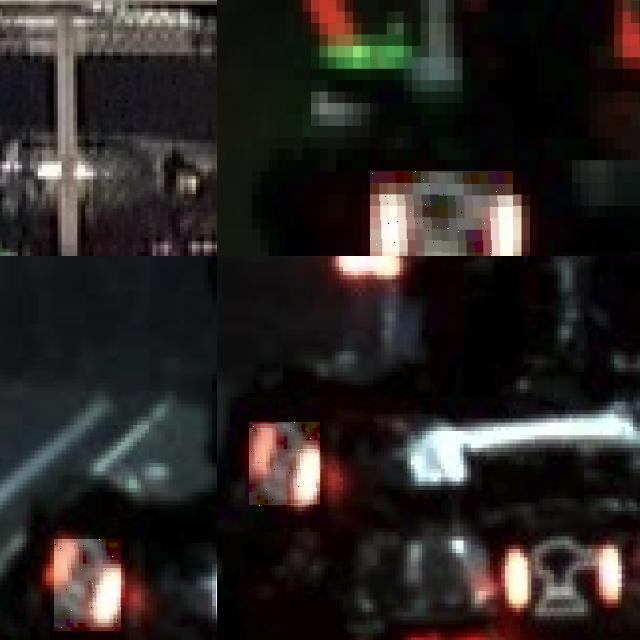Rs: (370, 171, 513, 256), (505, 528, 625, 612), (54, 539, 121, 631), (249, 422, 320, 507)
